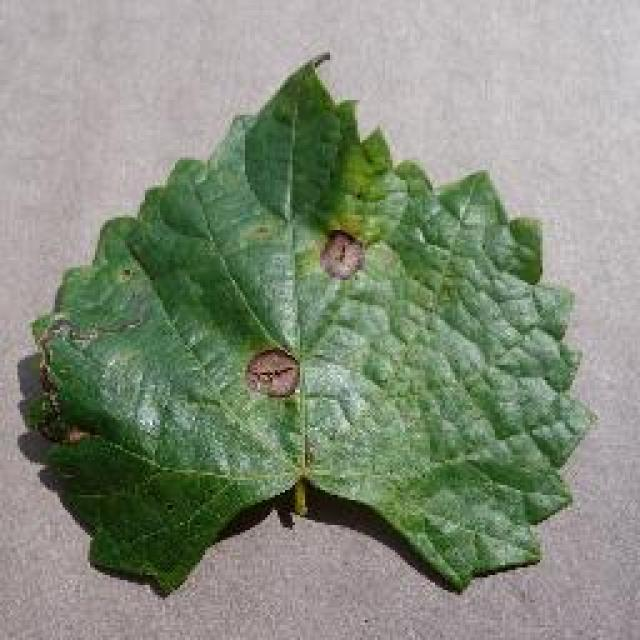Grape___Black_rot: (19, 48, 602, 599)
